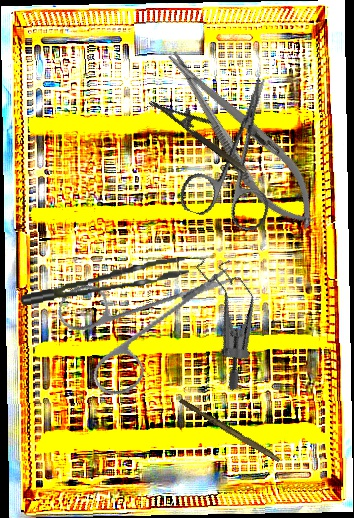Iris Scissors: (38, 222, 236, 420), (175, 65, 308, 235)
Needle Holder: (151, 35, 333, 242), (148, 85, 257, 175)
Scalpel Handle: (177, 397, 283, 463)
Speculum: (157, 243, 294, 393)
Tissue Forceps: (18, 256, 192, 306)
